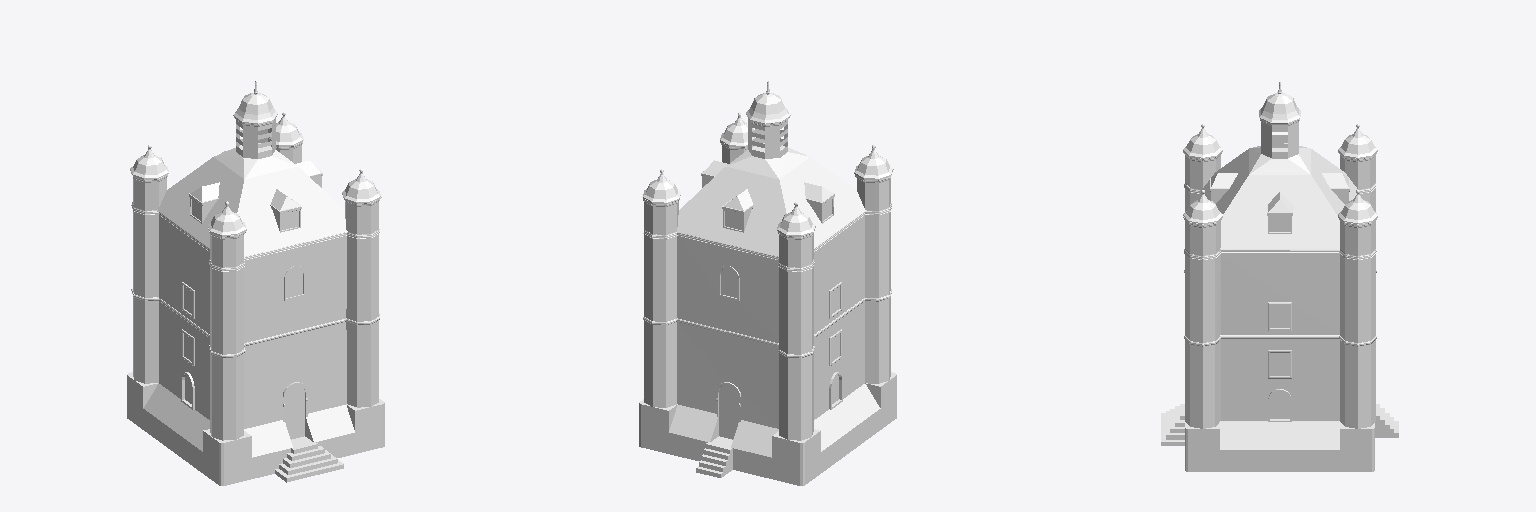
The model's file is building.obj.
3 renders of one model, left to right at view 1: azimuth 30°, elevation 25°; view 2: azimuth 150°, elevation 25°; view 3: azimuth 270°, elevation 25°, orthographic.
Parts seen in each view (by area): view 1: g0; view 2: g0; view 3: g0.
Part boxes in pixels (x1,y1,x2,y2): g0: (127,81,384,485); g0: (639,81,896,485); g0: (1161,82,1398,471).
Size of the model in its own units: 8.23 by 16.27 by 10.